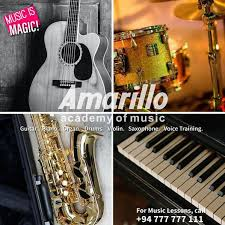Piano: (104, 100, 225, 225)
Saxophone: (14, 104, 113, 225)
